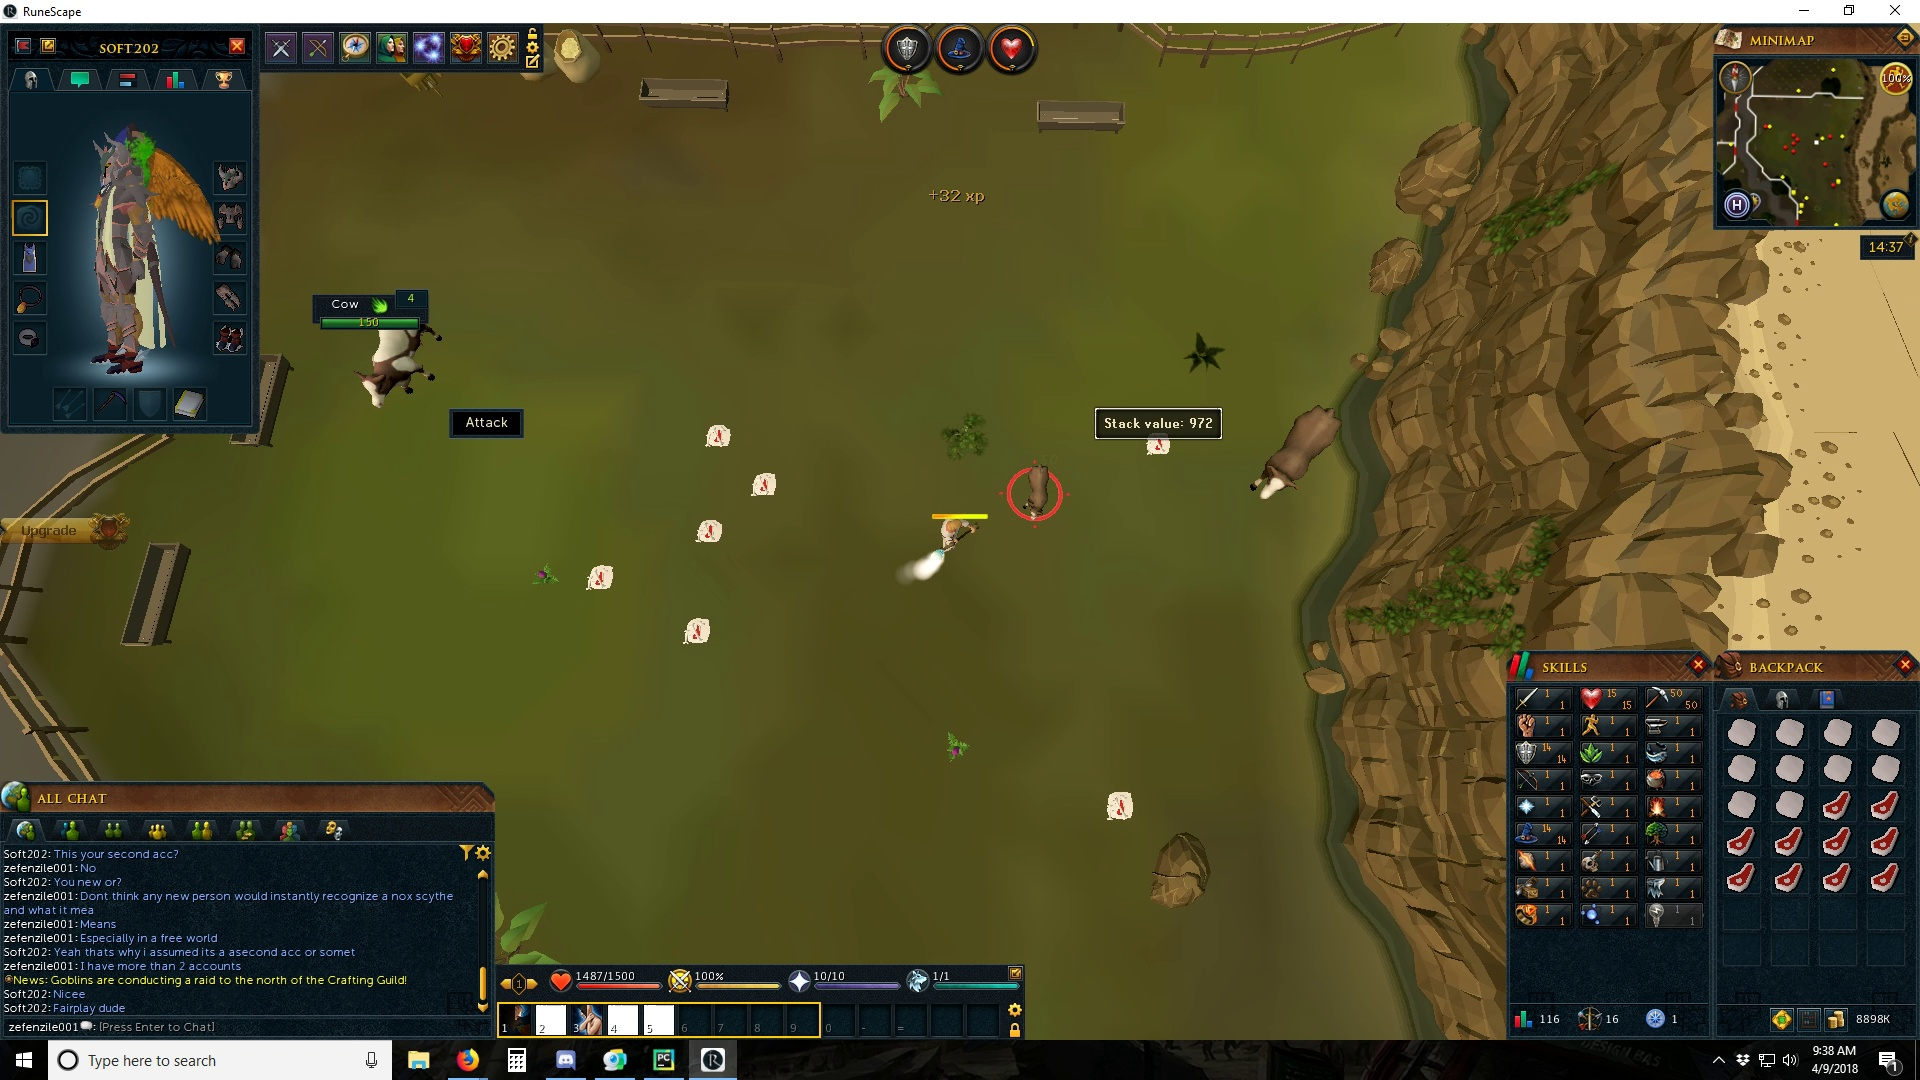calf: (1019, 464, 1054, 522)
cow: (1244, 400, 1342, 505), (355, 323, 443, 411)
cow_drop: (680, 615, 713, 647), (1102, 790, 1134, 823), (582, 564, 617, 592), (702, 421, 735, 448), (749, 469, 779, 497), (695, 521, 727, 545), (1143, 436, 1174, 460)
